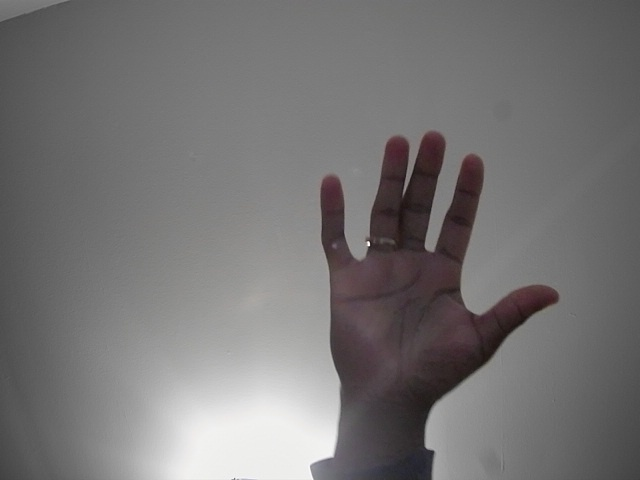Hello: (293, 127, 568, 444)
